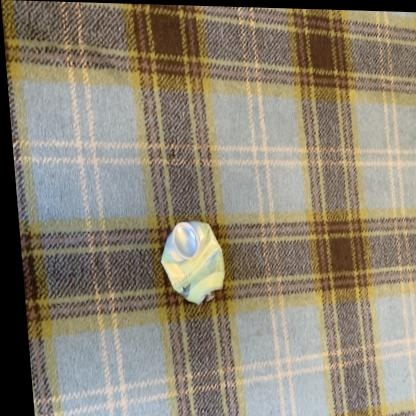trash: (161, 221, 224, 303)
